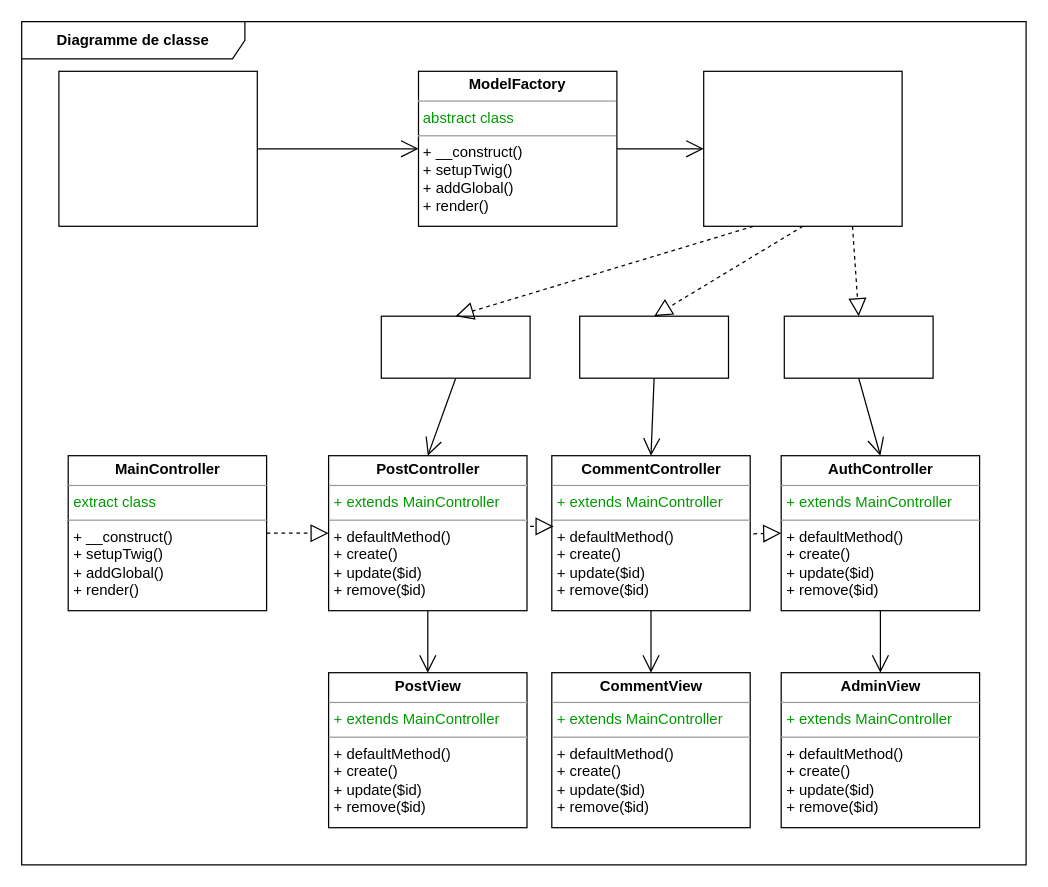
This 1048x887 diagram has some shape labels left out. Here are the shapes that lost their labels. From the top down, the centre of each, then its label:
(x=157, y=148): PDOFactory extract class + __construct() + setupTwig() + addGlobal() + render()
(x=802, y=148): MainModel abstract class + __construct() + setupTwig() + addGlobal() + render()
(x=455, y=346): PostModel extends MainModel
(x=653, y=346): CommentModel extends MainModel
(x=858, y=346): UserModel extends MainModel
